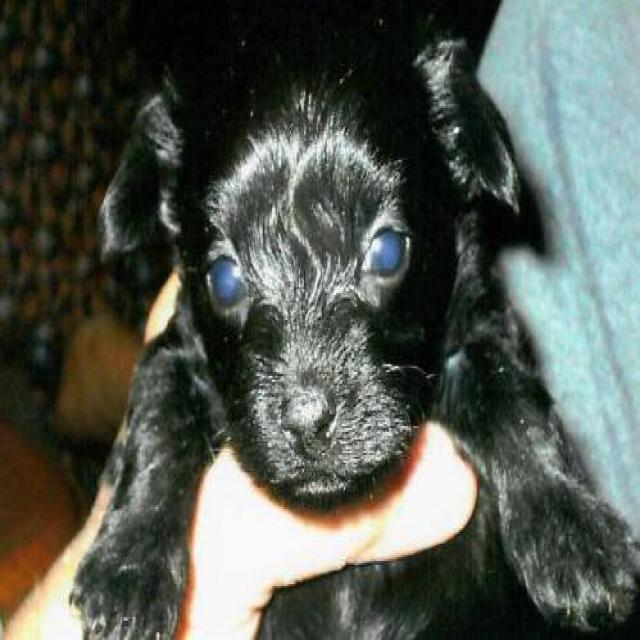dog: (2, 12, 638, 638)
